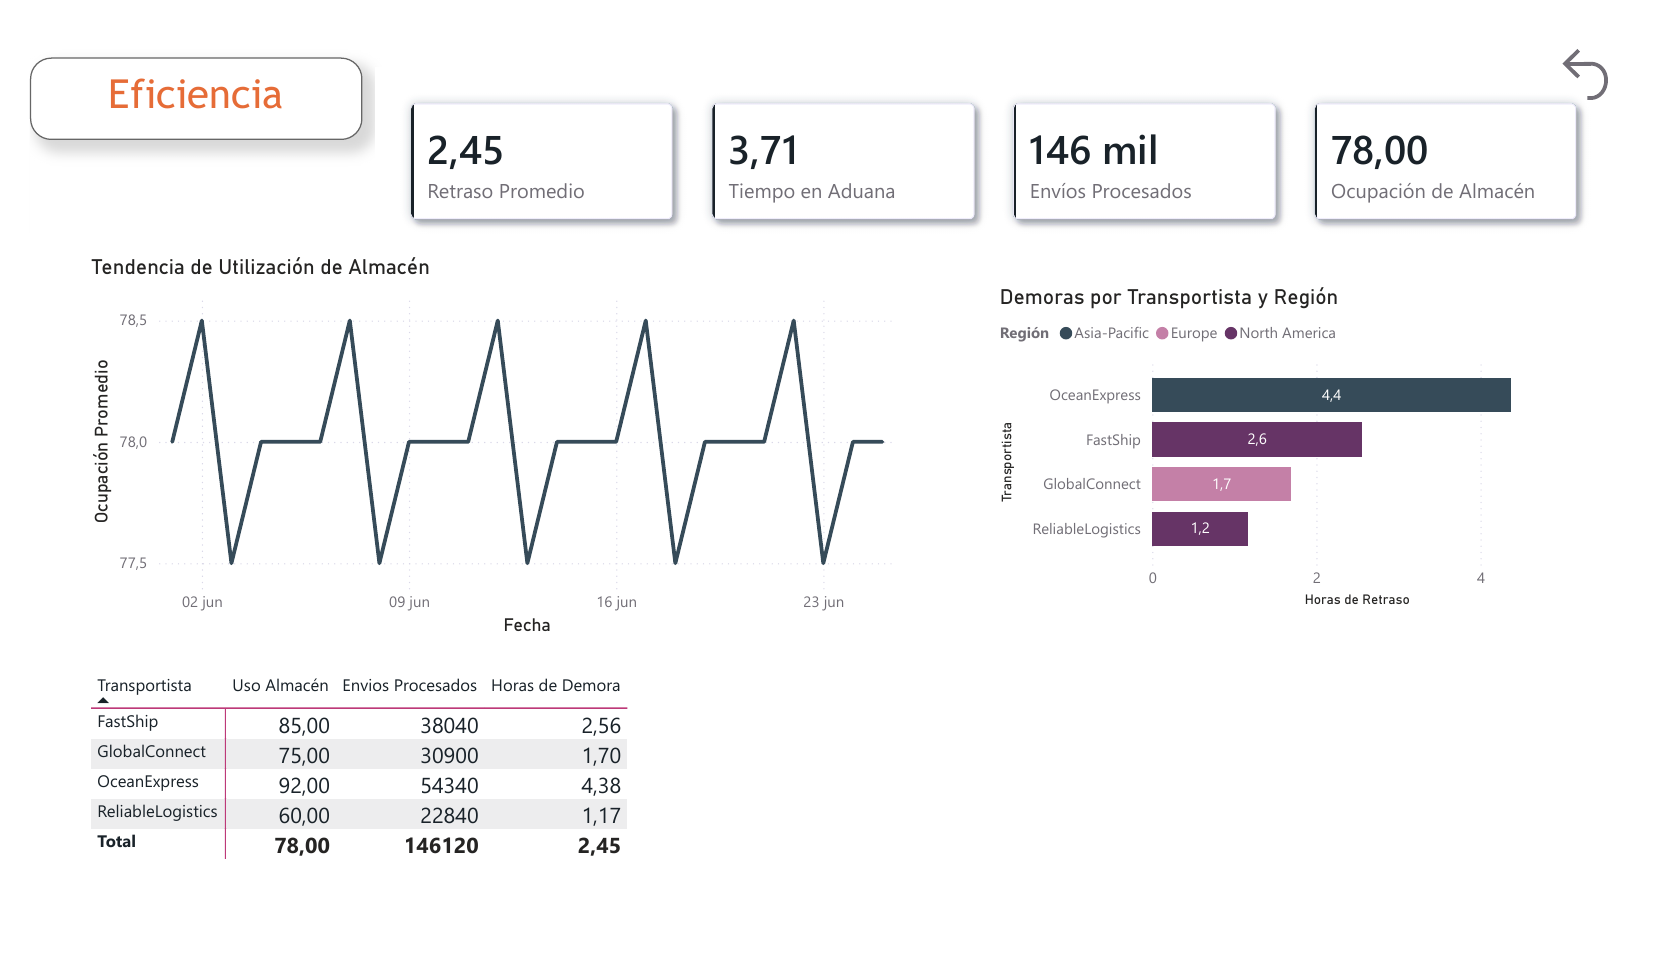

What the dashboard file says about the page in this screenshot:
{"tool":"powerbi","page":{"name":"Eficiencia","canvas":[1280,720],"ordinal":1},"visuals":[{"type":"barChart","title":"Demoras por Transportista y Región","fields":{"Category":["logistics.carrier"],"Series":["logistics.region"],"Y":["_Medidas.Retraso Promedio (Horas)"]},"box":[771.2,204.5,463.8,262.1],"z":0},{"type":"lineChart","title":"Tendencia de Utilización de Almacén","fields":{"Category":["logistics.date"],"Y":["_Medidas.Utilizacion Almacen Promedio"]},"box":[43.9,179.8,660,310.1],"z":2000},{"type":"textbox","box":[0,22,266.2,65.9],"z":3000},{"type":"cardVisual","fields":{"Data":["_Medidas.Retraso Promedio (Horas)","_Medidas.Tiempo Aduana Promedio (Dias)","_Medidas.Total Envios Procesados","_Medidas.Utilizacion Almacen Promedio"]},"box":[275.7,30,990,150],"z":5000},{"type":"pivotTable","fields":{"Rows":["logistics.carrier"],"Values":["_Medidas.Utilizacion Almacen Promedio","_Medidas.Total Envios Procesados","_Medidas.Retraso Promedio (Horas)"]},"box":[43.9,508.6,1191.1,190],"z":6000},{"type":"actionButton","box":[1208.6,0,71.4,71.4],"z":7500}]}

Visuals, with their boxes in screenshot pixels (x1, y1, x2, y2), scaled from the page's 1280x720 canvas onto the 1660x960 screenshot:
"Demoras por Transportista y Región" barChart: (1000, 273, 1602, 622)
"Tendencia de Utilización de Almacén" lineChart: (57, 240, 913, 653)
textbox: (0, 29, 345, 117)
cardVisual - _Medidas.Retraso Promedio (Horas) x _Medidas.Tiempo Aduana Promedio (Dias): (358, 40, 1641, 240)
pivotTable - logistics.carrier x _Medidas.Utilizacion Almacen Promedio: (57, 678, 1602, 931)
actionButton: (1567, 0, 1659, 95)
